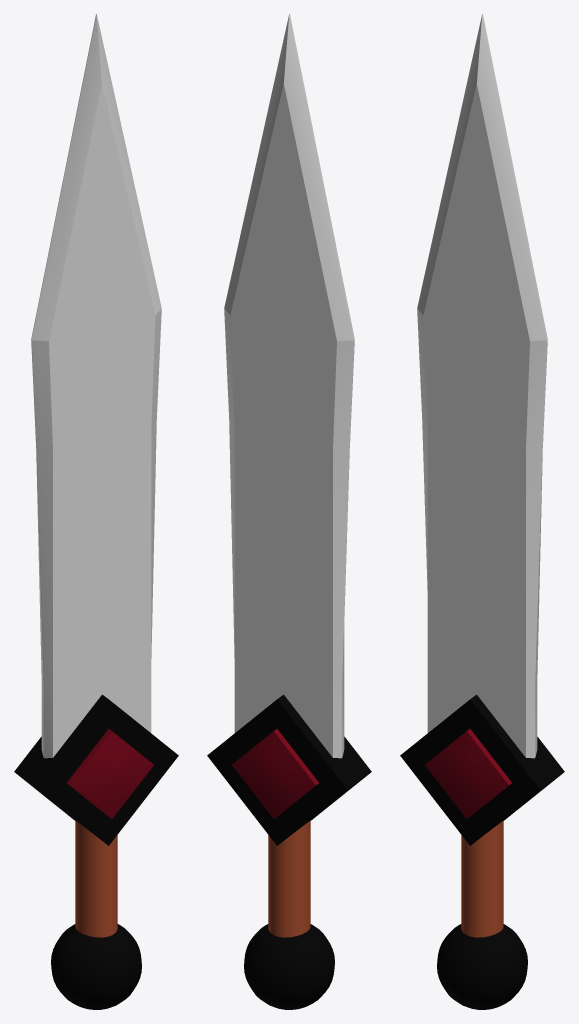
Rendered from Sword_Matthijs.fbx.
3 renders of one model, left to right at view 1: azimuth 30°, elevation 25°; view 2: azimuth 150°, elevation 25°; view 3: azimuth 330°, elevation 25°, orthographic.
Parts seen in each view (by area): view 1: pSphere2; view 2: pSphere2; view 3: pSphere2.
Part boxes in pixels (bbox=[...]): pSphere2: bbox=[14, 14, 178, 1009]; pSphere2: bbox=[207, 14, 371, 1009]; pSphere2: bbox=[400, 14, 564, 1009].
Size of the model in its own units: 7.07 by 47.73 by 4.
